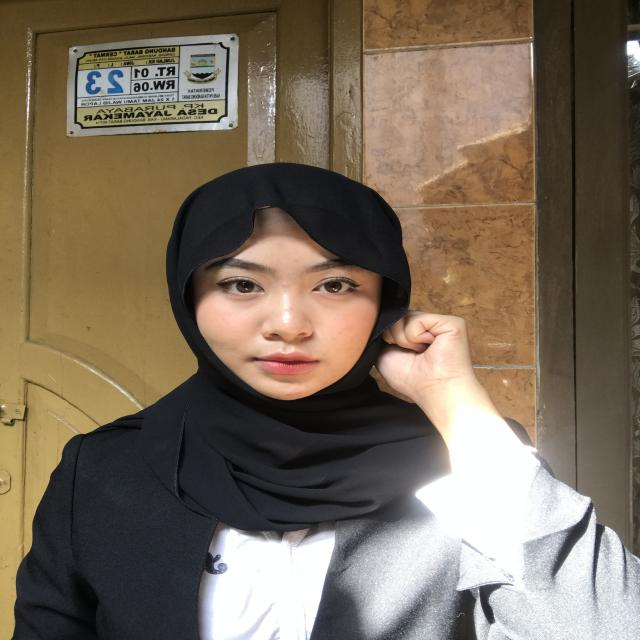ibu: (359, 300, 491, 423)
